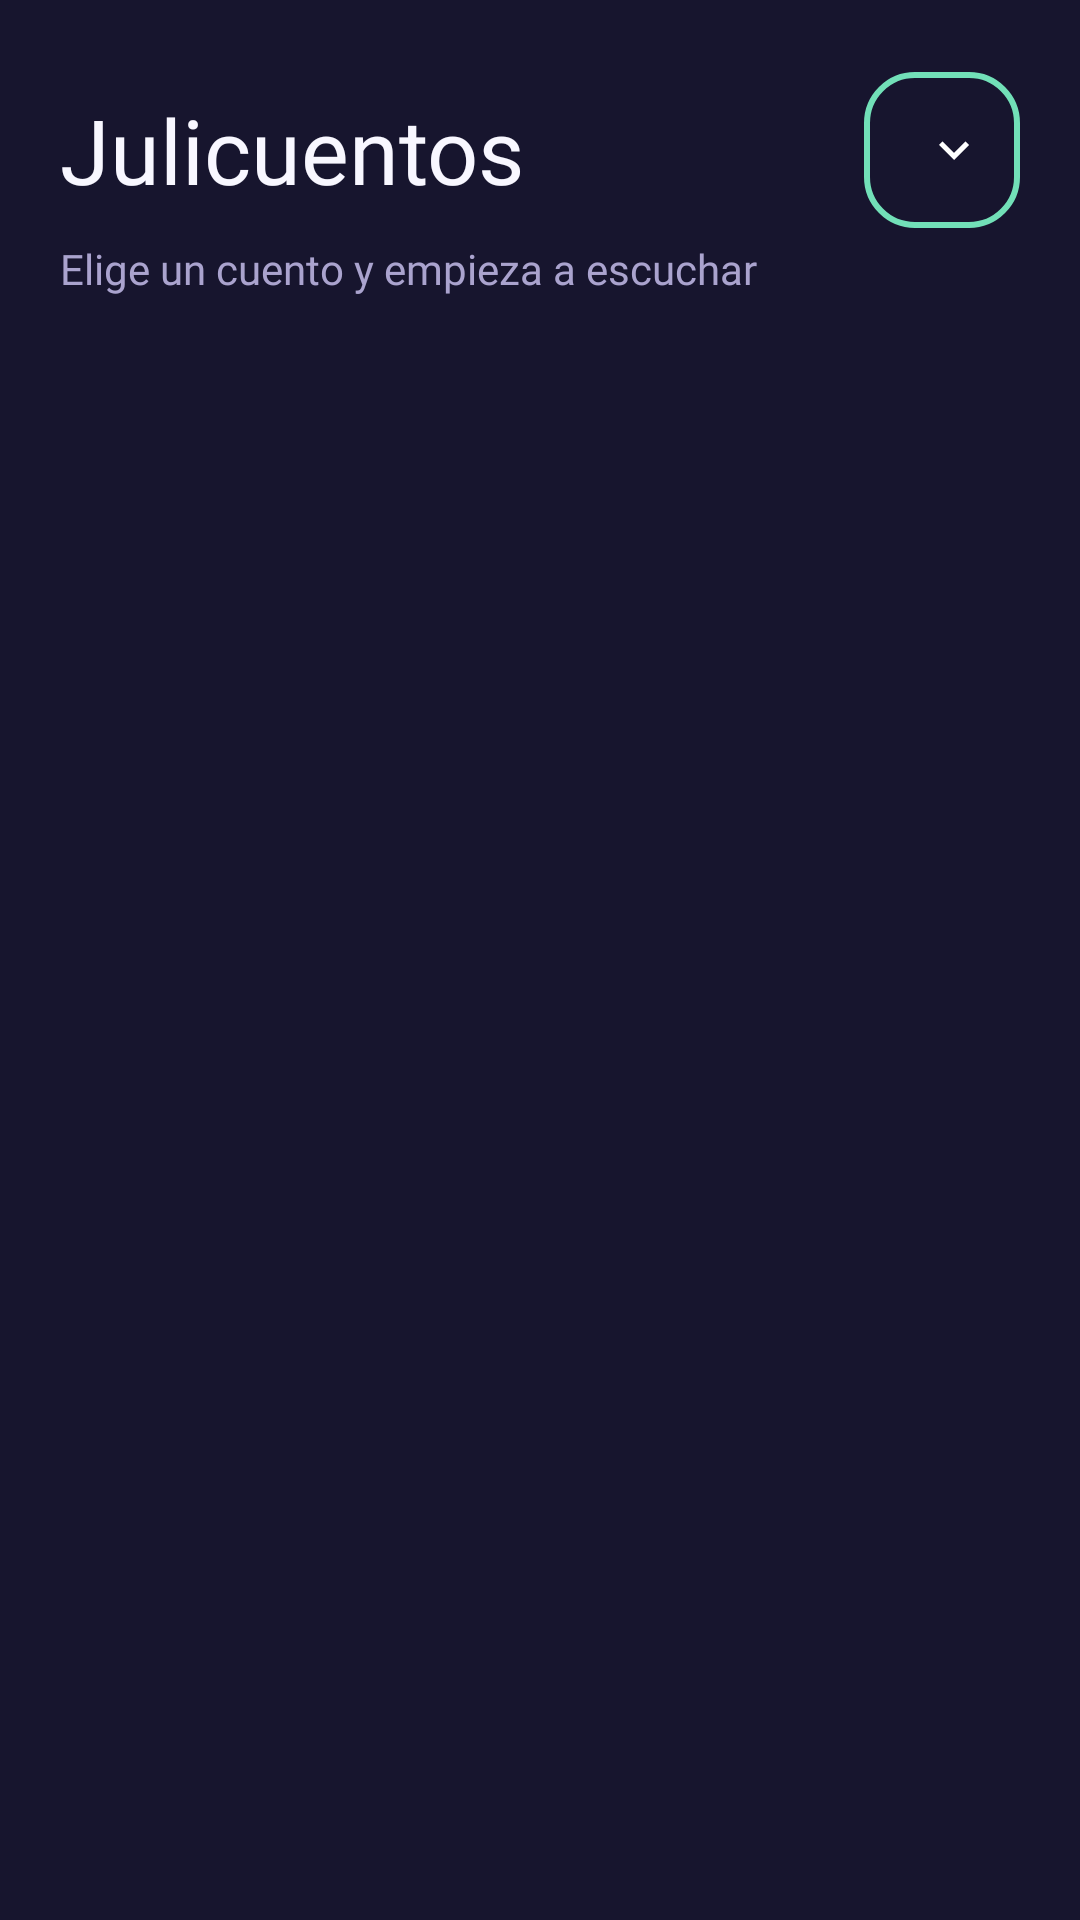

Locate icon controls on the screen. Image size 1080x1920, boxes as (x1=x1, y1=y1, x2=x2, y2=y2).
chevron down: (x1=939, y1=141, x2=969, y2=160)
